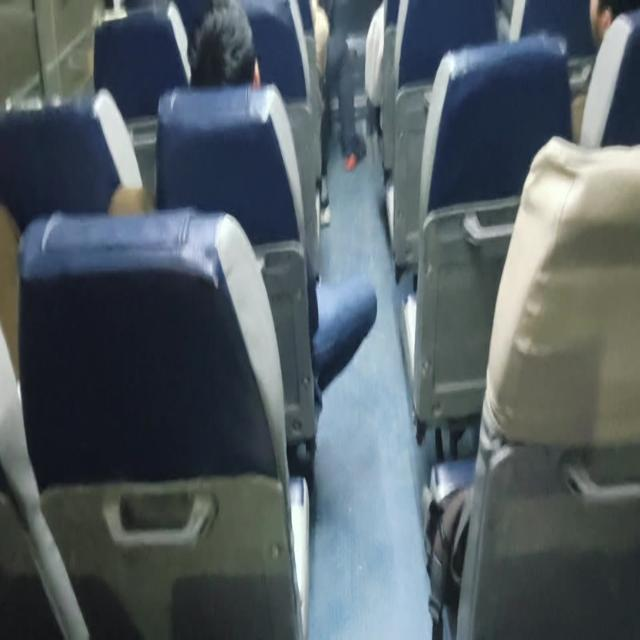person: (197, 3, 265, 93), (577, 0, 640, 57)
